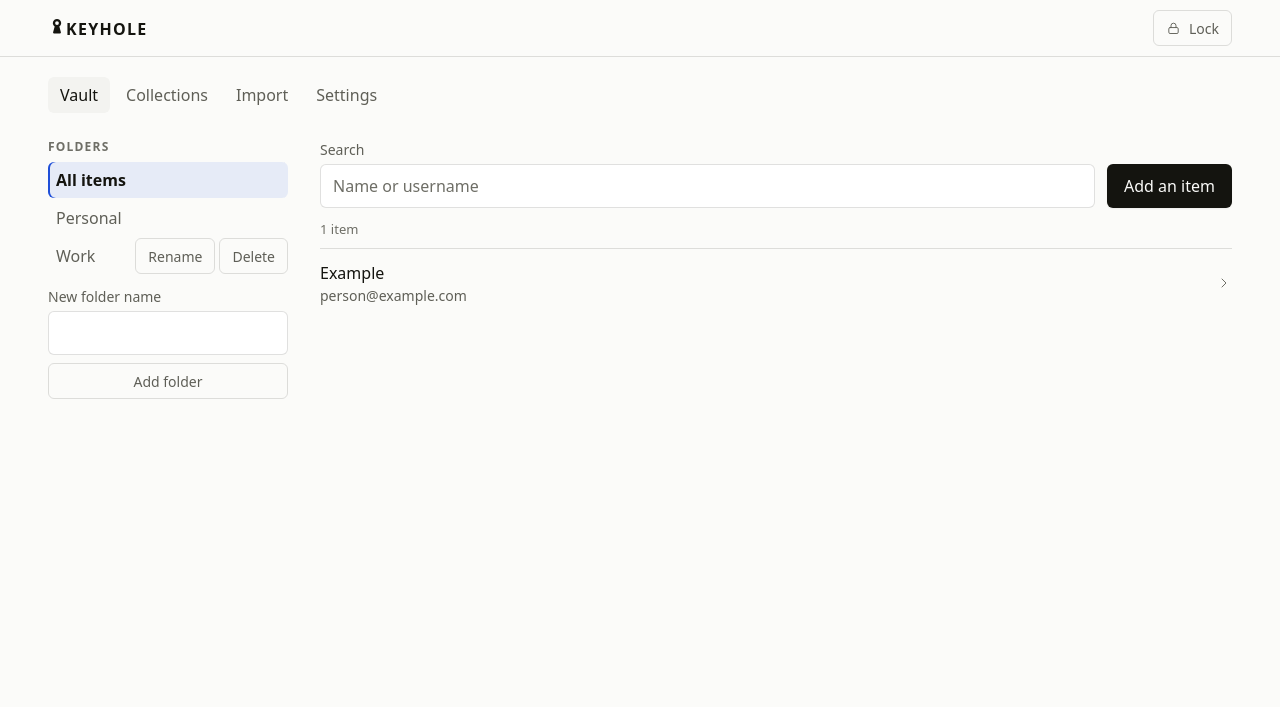
VaultScreen folder assignment (editor) › does not crash and offers Personal when the item's folder was deleted
Click the text "Example".
click(352, 272)  # box 320,262 -> 384,284
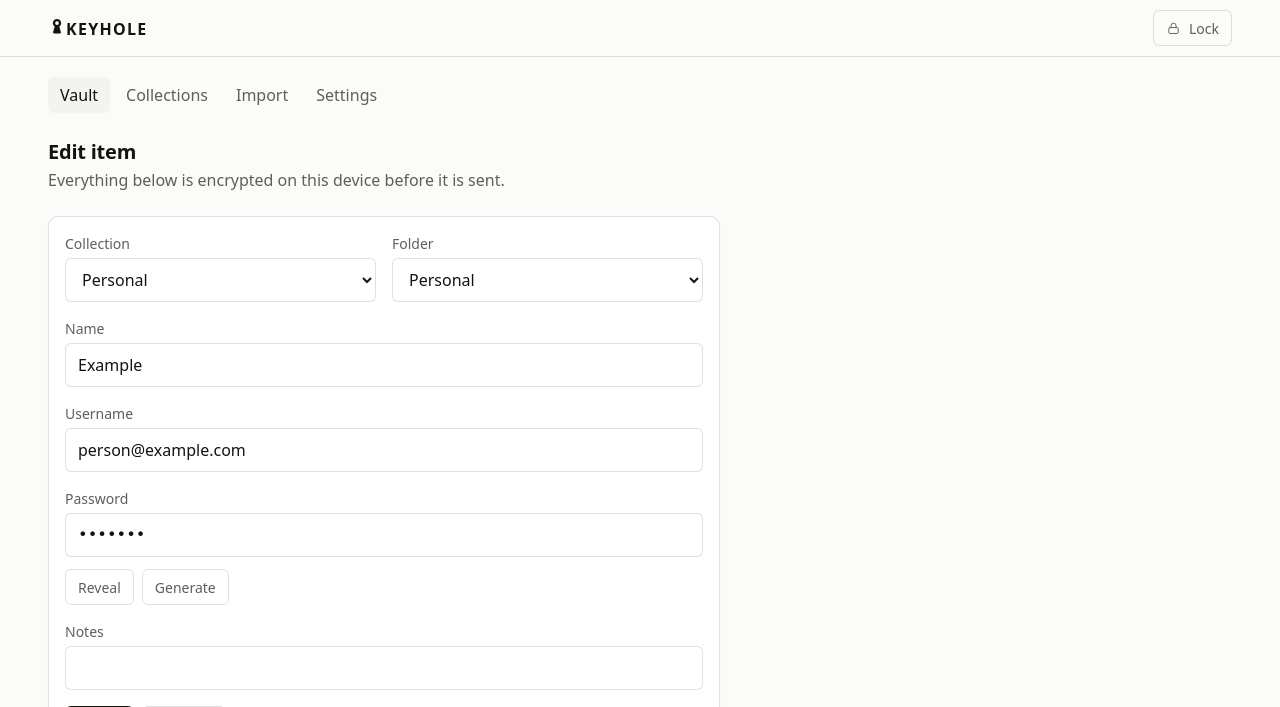
Now the field labelled "Name" holds "Example", box 65,343 -> 703,387
Now the dropdown labelled "Folder" shows "Personal", box 392,258 -> 703,302
